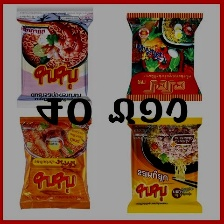snack: (121, 112, 206, 217), (12, 7, 97, 111), (120, 9, 208, 106), (13, 113, 96, 214)
